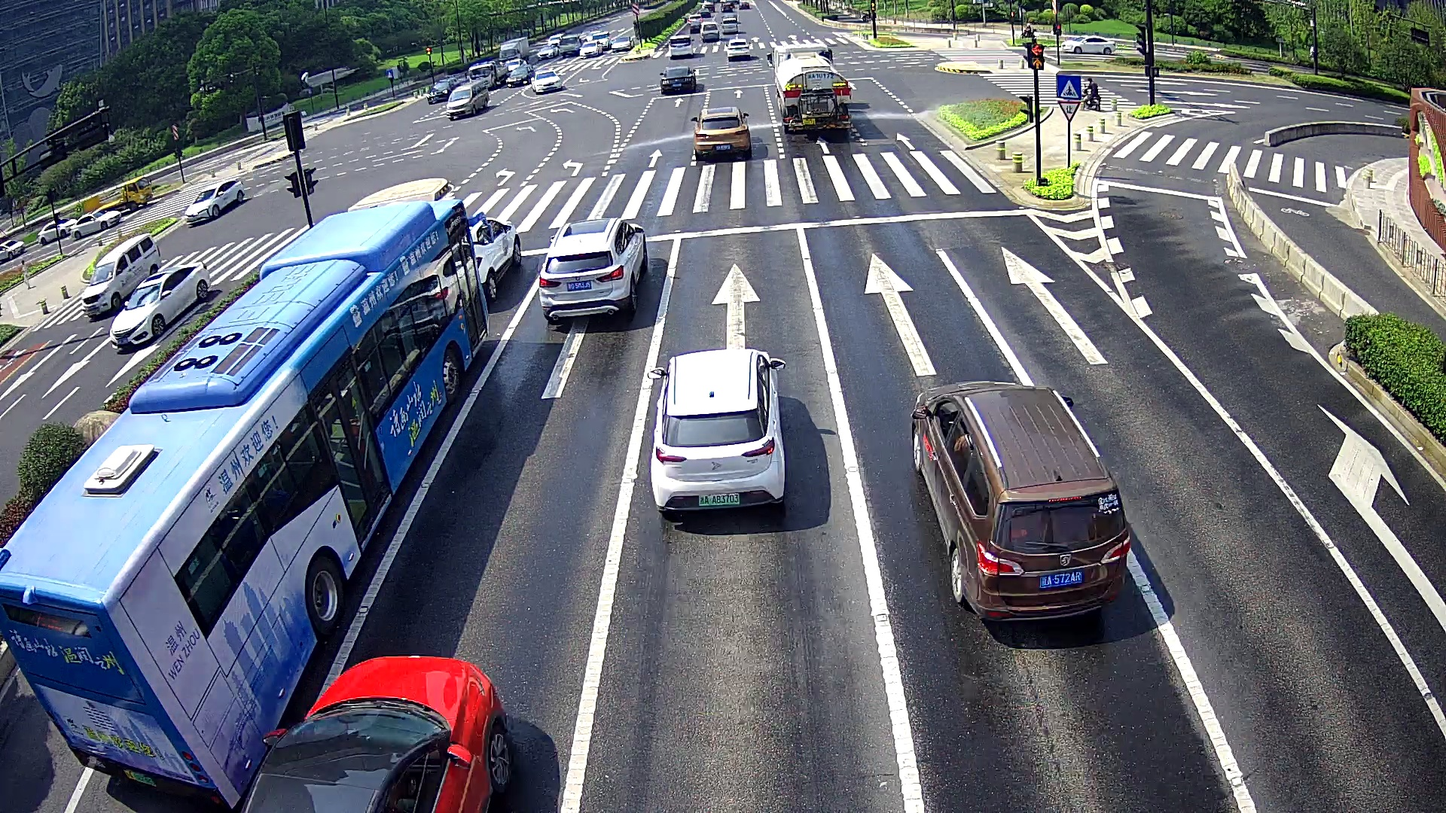vehicle: (2, 193, 472, 797), (906, 376, 1133, 626), (238, 659, 519, 811), (643, 344, 791, 518), (534, 215, 649, 322), (763, 36, 853, 145), (109, 259, 212, 351), (77, 229, 159, 316), (687, 104, 752, 165), (182, 181, 246, 224), (443, 79, 491, 122), (657, 64, 699, 96), (71, 209, 120, 232), (528, 68, 563, 90)
